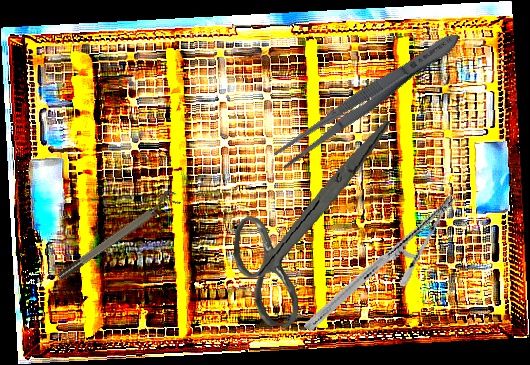Dressing Forceps: (269, 24, 467, 174)
Fixation Ring: (52, 187, 182, 283)
Iris Scissors: (227, 108, 391, 335)
Needle Holder: (303, 163, 458, 362)
